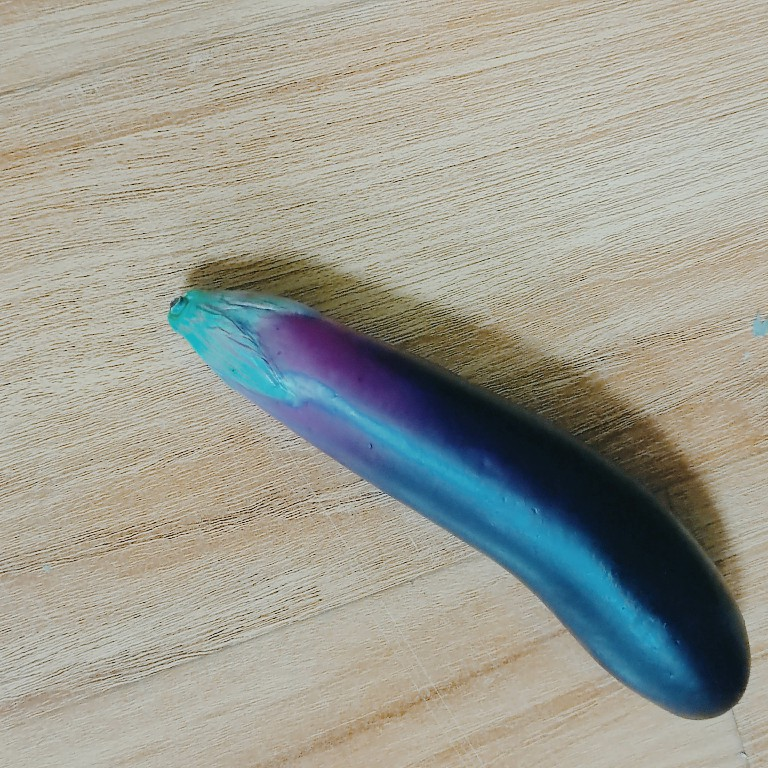fruit_eggplant: (160, 280, 755, 722)
